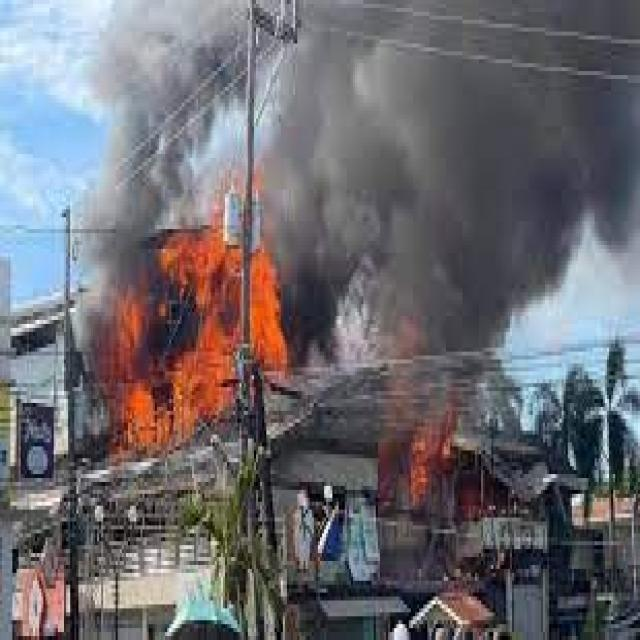Fire: (164, 222, 242, 300), (121, 374, 198, 446), (250, 250, 288, 374), (200, 290, 238, 413), (412, 403, 454, 507), (106, 283, 138, 377), (157, 302, 167, 320)
Smoke: (258, 0, 504, 356), (70, 16, 246, 226), (506, 0, 578, 304), (409, 340, 499, 435), (138, 279, 200, 376), (74, 222, 161, 284), (382, 357, 407, 509), (78, 280, 102, 388)
